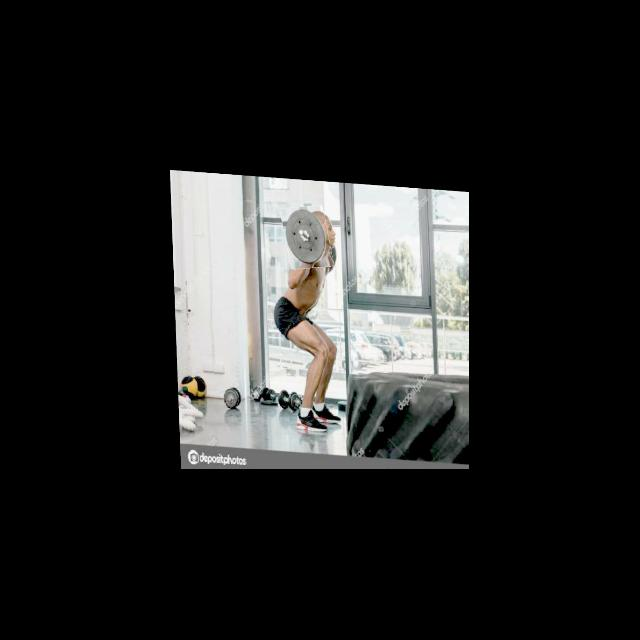barbell: (282, 202, 331, 269)
